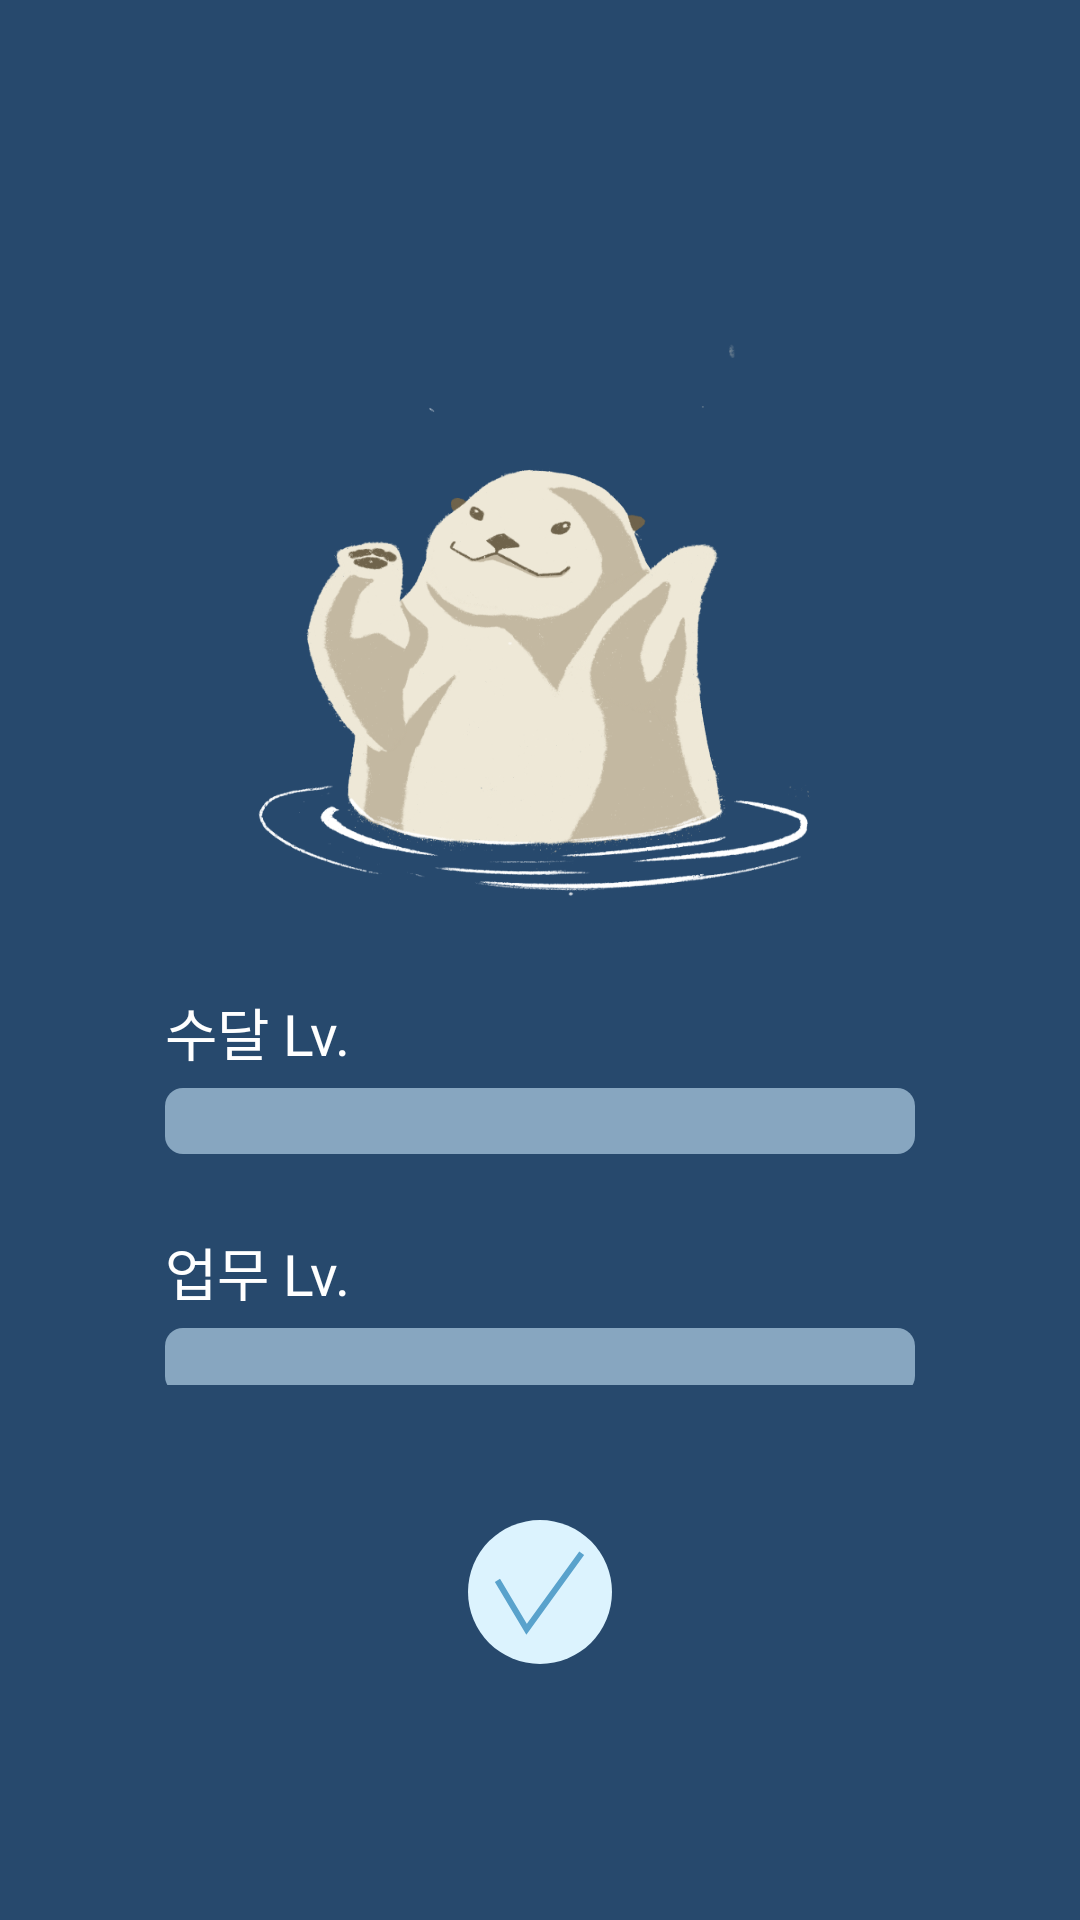

Named icons in this screenshot (1080 x 1920) and their bounding boxes, [x1,y1,x2,y2]:
save: [468,1520,612,1664]
